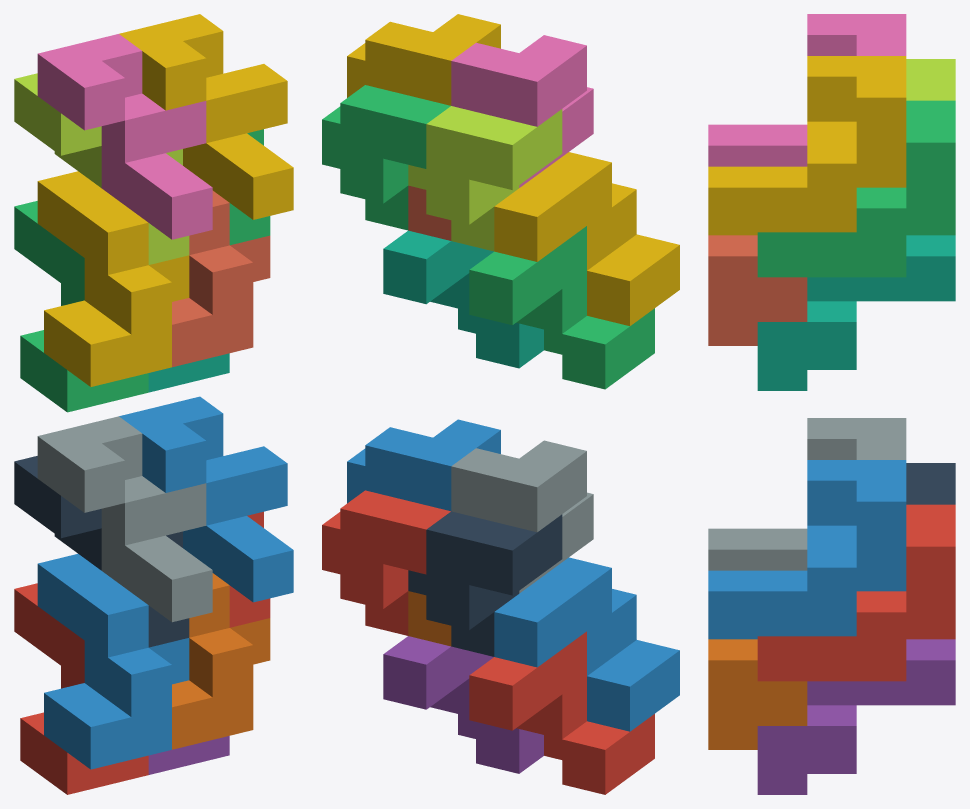
Rendered from tiling.obj.
3 views of the same model, side by side, from view 1: azimuth 30°, elevation 25°; view 2: azimuth 150°, elevation 25°; view 3: azimuth 270°, elevation 25° (orthographic). The views are drawn at different scales.
Visible parts, largest first — view 1: copy_1_domain_4, copy_1_domain_2, copy_2_domain_2, copy_2_domain_4, copy_2_domain_6, copy_2_domain_8, copy_1_domain_8, copy_1_domain_6, copy_1_domain_1, copy_1_domain_3, copy_2_domain_1, copy_2_domain_3 (+4 smaller); view 2: copy_1_domain_2, copy_1_domain_4, copy_1_domain_1, copy_1_domain_3, copy_2_domain_1, copy_2_domain_3, copy_2_domain_5, copy_2_domain_7, copy_2_domain_2, copy_2_domain_4, copy_1_domain_5, copy_1_domain_7 (+4 smaller); view 3: copy_2_domain_8, copy_2_domain_6, copy_2_domain_5, copy_2_domain_7, copy_1_domain_5, copy_1_domain_7, copy_2_domain_2, copy_2_domain_4, copy_1_domain_6, copy_1_domain_8, copy_2_domain_1, copy_2_domain_3.
Boxes of the visible parts, x1,y1,x2,y2 form: copy_1_domain_4: [37, 171, 189, 386]; copy_1_domain_2: [37, 554, 189, 769]; copy_2_domain_2: [37, 416, 212, 622]; copy_2_domain_4: [37, 34, 212, 239]; copy_2_domain_6: [119, 396, 293, 602]; copy_2_domain_8: [119, 14, 293, 219]; copy_1_domain_8: [172, 190, 270, 367]; copy_1_domain_6: [172, 573, 270, 749]; copy_1_domain_1: [14, 583, 148, 794]; copy_1_domain_3: [14, 201, 148, 412]; copy_2_domain_1: [14, 456, 189, 647]; copy_2_domain_3: [14, 73, 189, 264]; copy_1_domain_2: [494, 557, 679, 731]; copy_1_domain_4: [494, 152, 679, 325]; copy_1_domain_1: [469, 631, 654, 794]; copy_1_domain_3: [469, 226, 654, 389]; copy_2_domain_1: [408, 511, 562, 656]; copy_2_domain_3: [408, 106, 562, 251]; copy_2_domain_5: [322, 490, 450, 635]; copy_2_domain_7: [322, 85, 450, 230]; copy_2_domain_2: [451, 440, 593, 593]; copy_2_domain_4: [451, 35, 593, 187]; copy_1_domain_5: [383, 636, 543, 773]; copy_1_domain_7: [383, 230, 543, 368]; copy_2_domain_8: [708, 56, 906, 232]; copy_2_domain_6: [708, 460, 906, 636]; copy_2_domain_5: [757, 504, 955, 681]; copy_2_domain_7: [757, 100, 955, 277]; copy_1_domain_5: [757, 639, 955, 794]; copy_1_domain_7: [757, 235, 955, 390]; copy_2_domain_2: [708, 418, 906, 570]; copy_2_domain_4: [708, 14, 906, 166]; copy_1_domain_6: [708, 639, 807, 749]; copy_1_domain_8: [708, 235, 807, 345]; copy_2_domain_1: [906, 463, 955, 504]; copy_2_domain_3: [906, 59, 955, 100].
Bounding box in the file's own units: 6 × 16 × 5.
